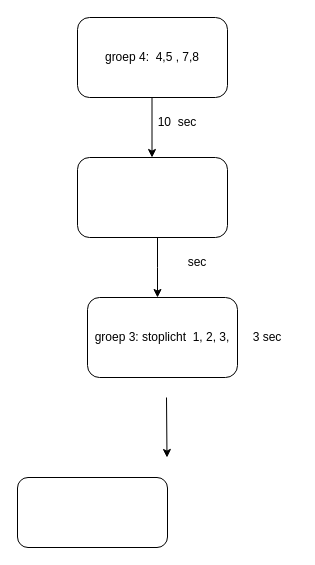
The diagram is 315 pixels wide and 565 high, and some of its shapes have lost their labels. The shapes that lost their labels are listed below. From the top down, each one's centre as x and y in pixels, then its label:
point (152, 197): groep 1: stoplicht 3,4,5,
point (92, 512): groep 2: stoplicht 1, 5, 6
